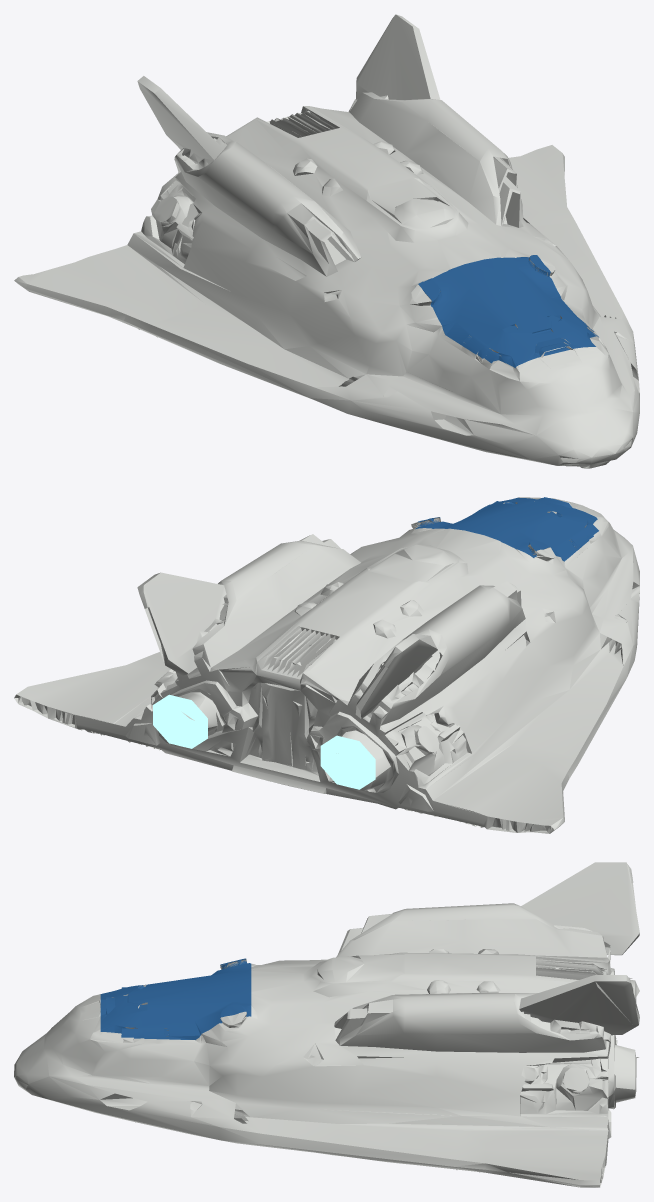
The model's file is adder.glb.
3 renders of one model, top to bottom at view 1: azimuth 30°, elevation 25°; view 2: azimuth 150°, elevation 25°; view 3: azimuth 270°, elevation 25°, orthographic. The views are drawn at different scales.
Parts seen in each view (by area): view 1: adder; view 2: adder; view 3: adder.
Boxes of the visible parts, left/top/right/bottom form: adder: left=14, top=14, right=639, bottom=468; adder: left=14, top=497, right=639, bottom=833; adder: left=14, top=862, right=639, bottom=1187.
Bounding box in the file's own units: 28.78 × 9.59 × 31.48.
